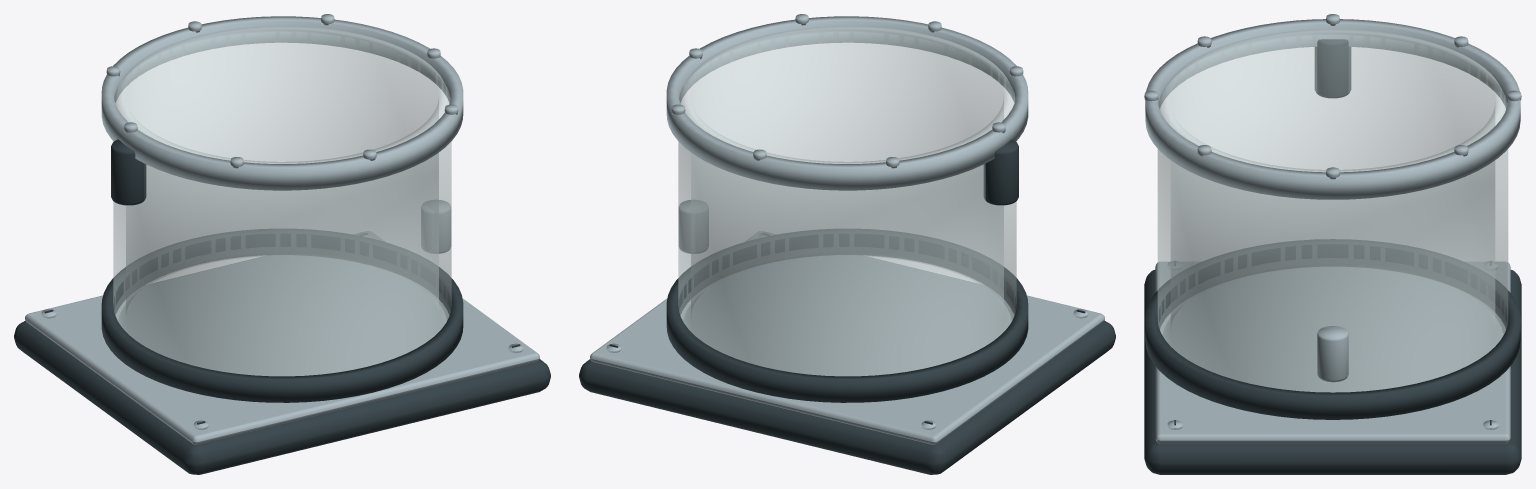
Rendered from cell.glb.
The picture shows the model from 3 angles, left to right: view 1: azimuth 30°, elevation 25°; view 2: azimuth 150°, elevation 25°; view 3: azimuth 270°, elevation 25°; orthographic projection. The views are drawn at different scales.
Parts seen in each view (by area): view 1: Observation glass, Satin upper panel, Chamber lower flange, Chamber upper flange, Machined plinth, Filtered exhaust, Inlet fitting; view 2: Observation glass, Satin upper panel, Chamber lower flange, Chamber upper flange, Machined plinth, Filtered exhaust, Inlet fitting; view 3: Observation glass, Satin upper panel, Chamber lower flange, Chamber upper flange, Machined plinth, Filtered exhaust, Inlet fitting.
Part boxes in pixels (x1,y1,x2,y2): Observation glass: (113,26,451,376); Satin upper panel: (25,231,539,444); Chamber lower flange: (101,229,463,402); Chamber upper flange: (101,16,463,190); Machined plinth: (14,320,550,474); Filtered exhaust: (111,139,146,205); Inlet fitting: (421,200,450,253); Observation glass: (678,26,1016,376); Satin upper panel: (590,231,1104,444); Chamber lower flange: (666,229,1028,402); Chamber upper flange: (666,16,1028,190); Machined plinth: (579,320,1115,474); Filtered exhaust: (983,139,1018,205); Inlet fitting: (679,200,708,253); Observation glass: (1157,29,1508,392); Satin upper panel: (1155,262,1510,443); Chamber lower flange: (1145,239,1520,419); Chamber upper flange: (1145,19,1520,199); Machined plinth: (1144,270,1521,474); Filtered exhaust: (1315,39,1350,98); Inlet fitting: (1317,326,1348,382).
Bounding box in the file's own units: 0.5 × 0.372 × 0.43.
